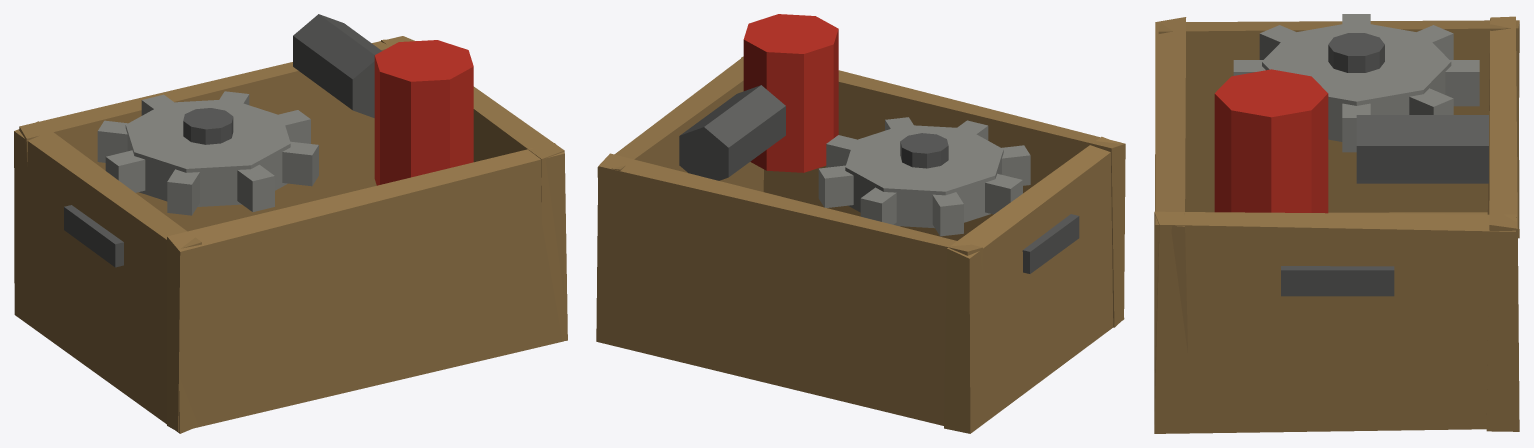
The model's file is good_parts.glb.
3 views of the same model, side by side, from view 1: azimuth 30°, elevation 25°; view 2: azimuth 150°, elevation 25°; view 3: azimuth 270°, elevation 25° (orthographic). The views are drawn at different scales.
Visible parts, largest first — view 1: good_parts; view 2: good_parts; view 3: good_parts.
Part boxes in pixels (left/top/right/bottom): good_parts: left=14, top=14, right=567, bottom=433; good_parts: left=596, top=14, right=1125, bottom=433; good_parts: left=1154, top=14, right=1519, bottom=433.
Size of the model in its own units: 0.544 by 0.34 by 0.3863.
